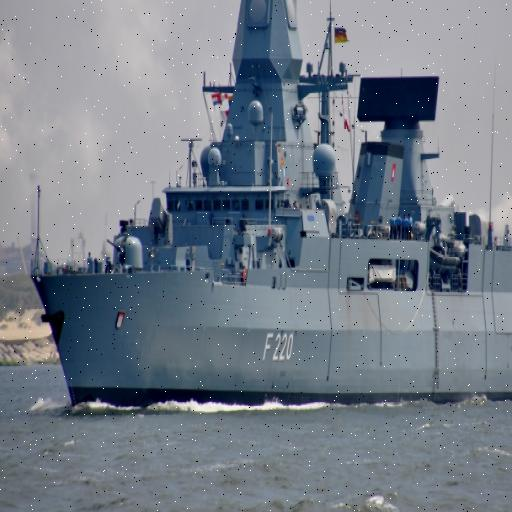Fragata: (31, 1, 512, 417)
